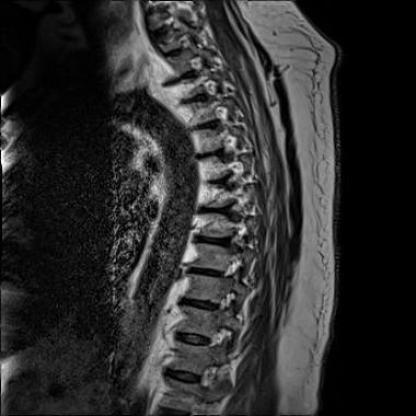Osteophytesrotation: (138, 1, 240, 415)
